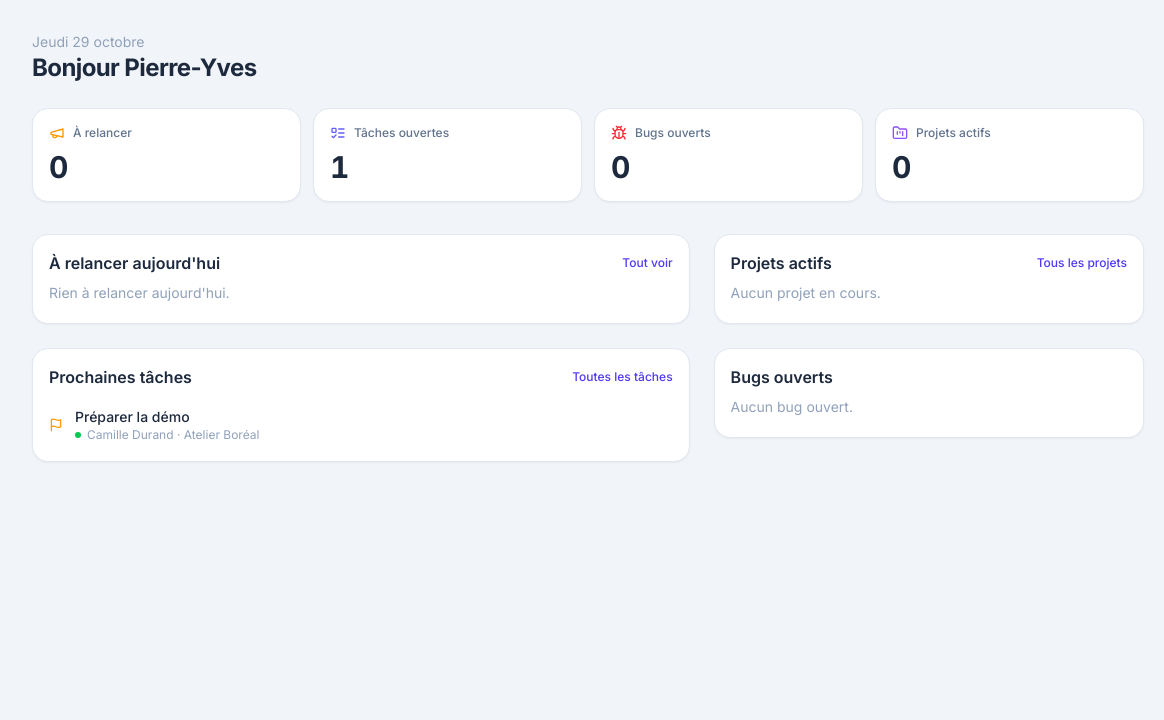
HomeView › ouvre le détail de la tâche sans quitter la page
Click the button "Préparer la démo Camille Durand · Atelier Boréal": [132, 416] box [37, 397, 685, 453]
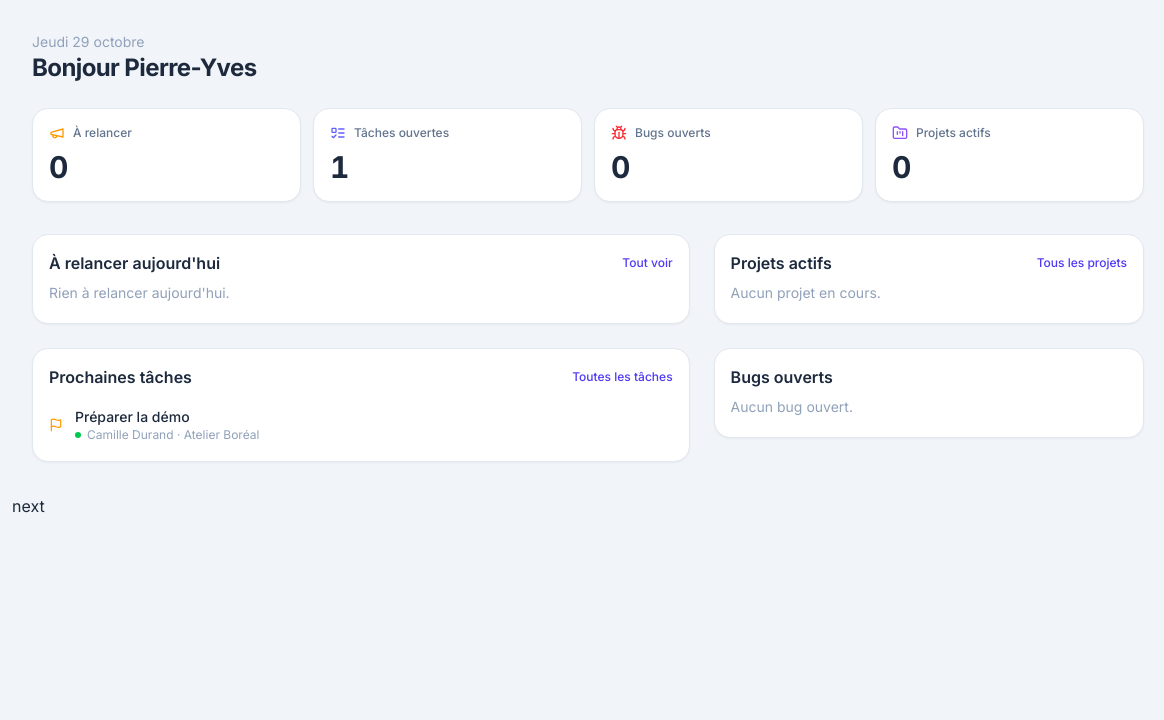
Now the text with test id "slide-over" reads "next", box [12, 496, 45, 516]
